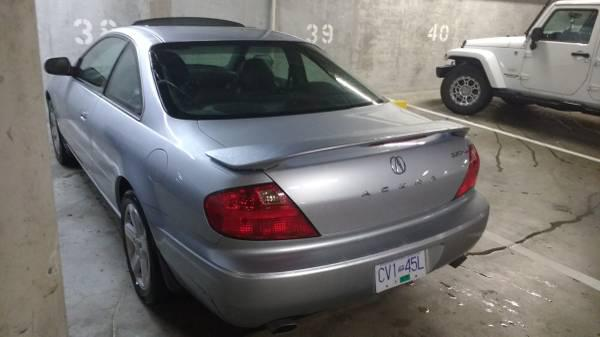acura: (36, 18, 511, 337)
